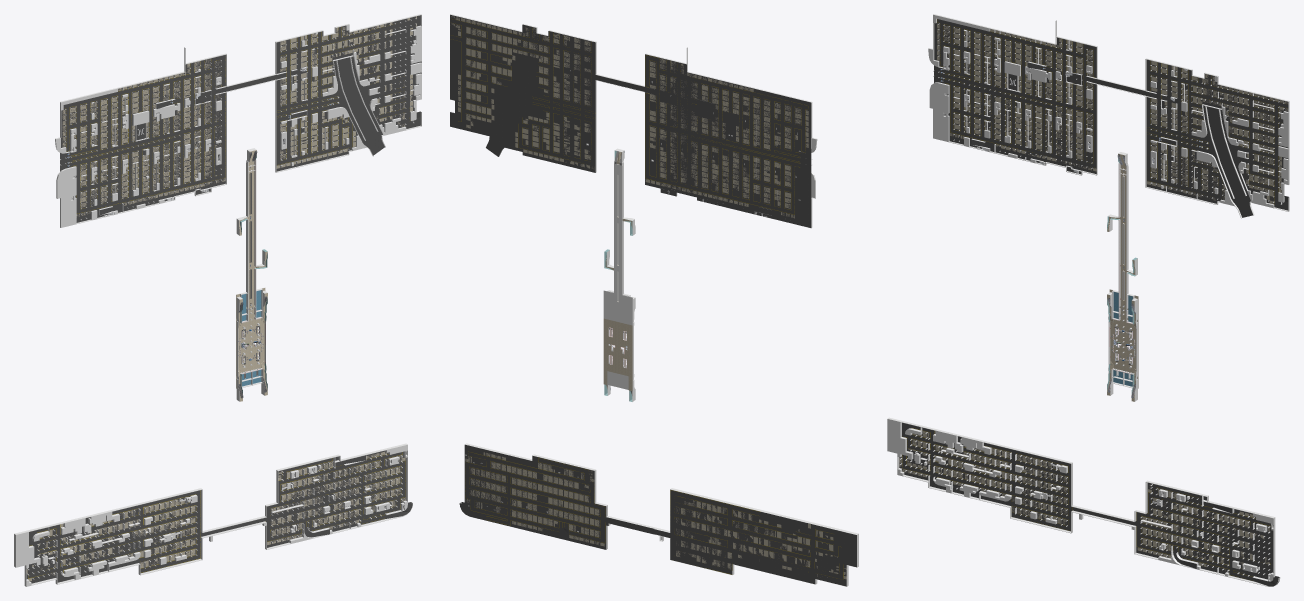
Rendered from 1_B2_SWHall_Pack.gltf.
3 views of the same model, side by side, from view 1: azimuth 30°, elevation 25°; view 2: azimuth 150°, elevation 25°; view 3: azimuth 330°, elevation 25° (orthographic).
Parts seen in each view (by area): view 1: object 56; view 2: object 56; view 3: object 56.
Part boxes in pixels (x1,y1,x2,y2): object 56: [14, 14, 421, 586]; object 56: [450, 14, 858, 586]; object 56: [887, 14, 1289, 586].
Bounding box in the file's own units: 706 × 865 × 12.79.
37 materials, 19 textured.
